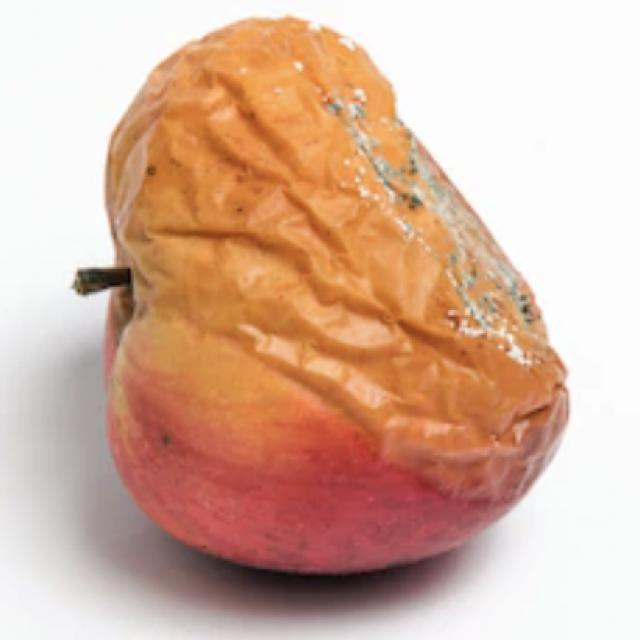Rotten: (85, 28, 597, 587)
